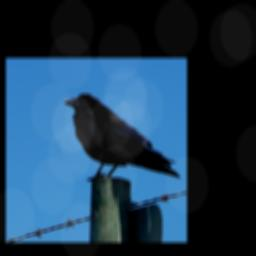Crow: (62, 92, 181, 182)
